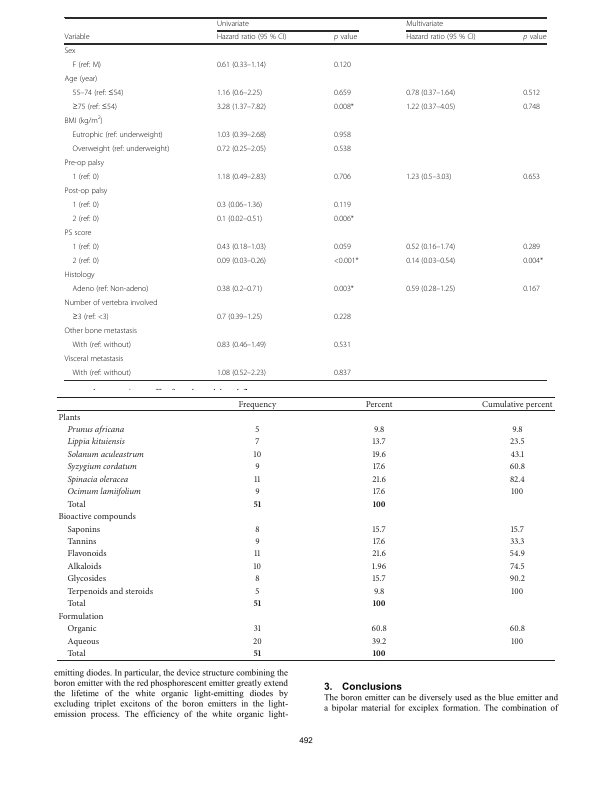borderless: (63, 16, 547, 380), (55, 395, 555, 660)
cell: (71, 144, 170, 154), (66, 586, 154, 597), (64, 298, 158, 308), (71, 130, 164, 140), (57, 511, 137, 522), (66, 449, 145, 460), (66, 486, 142, 497), (481, 399, 554, 410), (71, 284, 149, 294), (64, 326, 138, 336), (66, 462, 138, 472), (405, 33, 477, 43), (216, 33, 287, 43), (66, 474, 129, 485), (66, 424, 125, 435), (71, 340, 132, 350), (71, 368, 132, 378), (66, 437, 126, 447), (64, 354, 124, 364), (71, 88, 124, 98), (57, 611, 104, 622), (216, 60, 267, 70), (405, 88, 456, 98), (216, 102, 267, 112), (405, 102, 456, 112), (216, 130, 267, 140), (216, 144, 267, 154), (216, 172, 267, 182), (216, 242, 267, 252), (405, 242, 456, 252), (216, 256, 267, 266), (405, 256, 456, 266), (405, 284, 456, 294), (216, 340, 267, 350), (216, 368, 267, 378), (216, 88, 263, 98), (71, 102, 118, 112), (405, 172, 452, 182), (216, 200, 263, 210), (216, 214, 263, 224), (216, 284, 263, 294), (216, 312, 263, 322), (64, 115, 104, 126), (64, 186, 108, 196), (238, 399, 277, 410), (66, 549, 108, 559), (66, 574, 107, 584), (64, 158, 105, 168), (66, 561, 103, 572), (71, 312, 110, 322), (66, 636, 100, 647), (66, 623, 98, 634), (405, 20, 444, 29), (66, 524, 101, 534), (66, 536, 97, 547), (64, 74, 98, 84), (365, 399, 394, 410), (71, 60, 102, 70), (64, 270, 95, 280), (216, 20, 250, 29), (71, 172, 100, 182), (71, 200, 100, 210), (71, 214, 100, 224), (71, 242, 100, 252), (71, 256, 100, 266), (64, 228, 92, 238), (333, 256, 360, 266), (64, 33, 90, 43), (333, 33, 358, 43), (522, 33, 547, 43), (57, 412, 81, 422), (66, 499, 87, 510), (66, 648, 87, 659), (333, 102, 355, 112), (333, 214, 355, 224), (522, 256, 544, 266), (333, 284, 355, 294), (66, 599, 87, 609), (333, 60, 352, 70), (333, 88, 352, 98), (522, 88, 541, 98), (522, 102, 541, 112), (333, 130, 352, 140), (333, 144, 352, 154), (333, 172, 352, 182), (522, 172, 541, 182), (333, 200, 352, 210), (333, 242, 352, 252), (522, 242, 541, 252), (522, 284, 541, 294), (333, 312, 352, 322), (333, 340, 352, 350), (333, 368, 352, 378), (509, 474, 526, 485), (509, 561, 526, 572), (371, 623, 388, 634), (509, 623, 526, 634), (371, 449, 387, 460), (371, 474, 387, 485), (509, 536, 525, 547), (371, 561, 387, 572), (371, 636, 387, 647), (509, 437, 526, 447), (509, 462, 526, 472), (509, 549, 526, 559), (509, 574, 526, 584), (510, 449, 525, 460), (371, 549, 387, 559), (372, 486, 386, 497), (510, 486, 524, 497), (372, 536, 386, 547), (510, 586, 524, 597), (510, 636, 524, 647), (372, 437, 387, 447), (372, 524, 387, 534), (510, 524, 525, 534), (372, 574, 387, 584), (511, 424, 524, 435), (372, 462, 386, 472), (372, 648, 387, 657), (373, 424, 385, 435), (373, 586, 385, 597), (252, 636, 263, 647), (372, 499, 387, 507), (372, 599, 387, 607), (64, 46, 76, 56), (253, 449, 262, 460), (253, 561, 262, 572), (253, 623, 262, 634), (253, 474, 261, 485), (253, 648, 262, 657), (253, 549, 261, 559), (254, 486, 261, 497), (254, 536, 261, 547), (253, 499, 262, 507), (253, 599, 262, 607), (254, 462, 261, 472), (254, 524, 261, 534), (254, 574, 261, 584), (254, 424, 260, 435), (254, 586, 260, 597), (254, 437, 260, 447)
